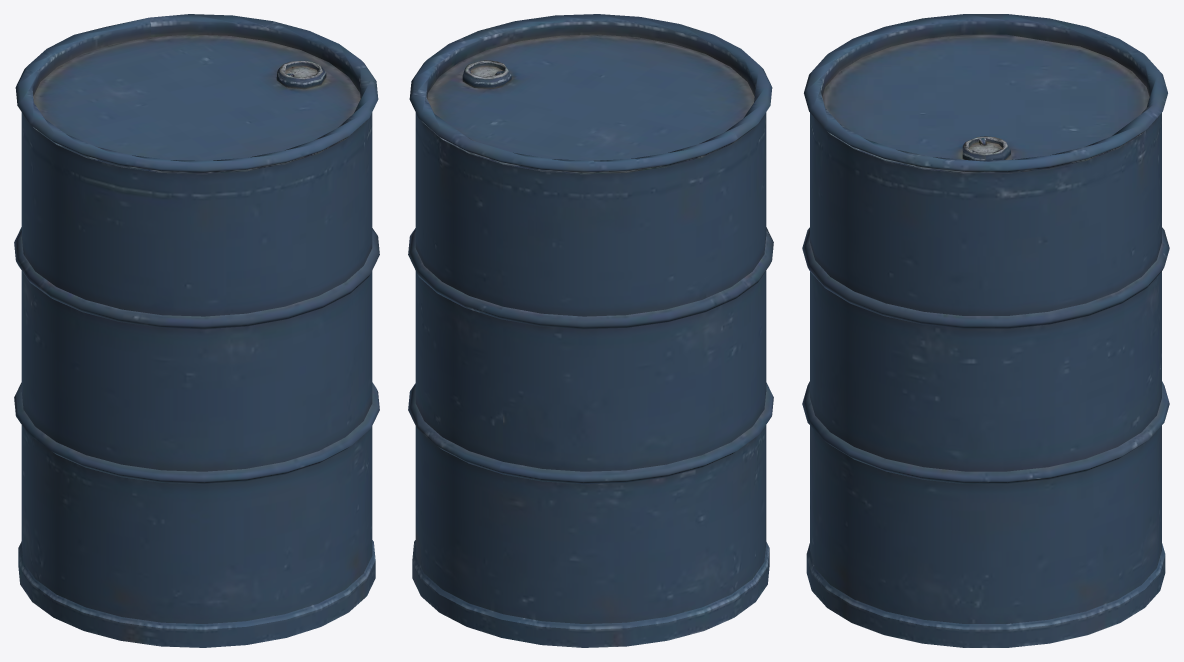
Rendered from barrel.glb.
3 renders of one model, left to right at view 1: azimuth 30°, elevation 25°; view 2: azimuth 150°, elevation 25°; view 3: azimuth 270°, elevation 25°, orthographic.
Visible parts, largest first — view 1: barrel_03; view 2: barrel_03; view 3: barrel_03.
Part boxes in pixels (left/top/right/bottom): barrel_03: left=14, top=14, right=379, bottom=647; barrel_03: left=408, top=14, right=773, bottom=647; barrel_03: left=802, top=14, right=1169, bottom=647.
Size of the model in its own units: 0.634 by 0.9305 by 0.6386.
Materials: 1 (1 with a texture image).
